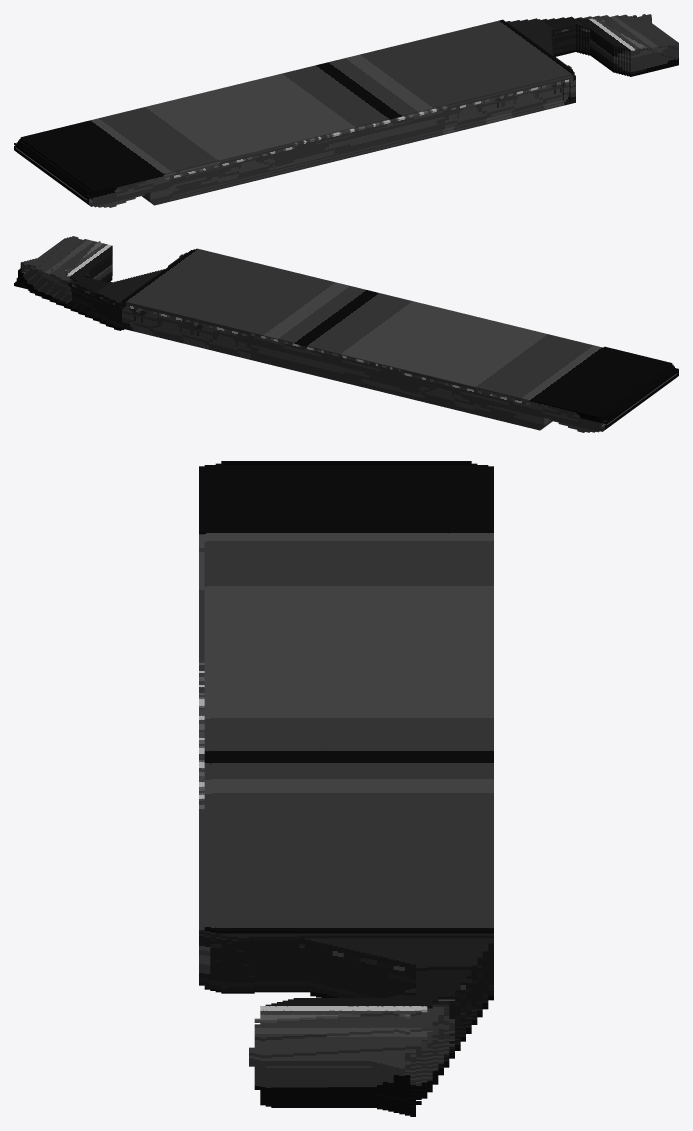
Rendered from floor2.glb.
3 renders of one model, top to bottom at view 1: azimuth 30°, elevation 25°; view 2: azimuth 150°, elevation 25°; view 3: azimuth 270°, elevation 25°, orthographic. The views are drawn at different scales.
Visible parts, largest first — view 1: floor 2; view 2: floor 2; view 3: floor 2.
Part boxes in pixels (x1,y1,x2,y2): floor 2: (14,14,678,207); floor 2: (14,236,678,432); floor 2: (199,461,493,1116).
Size of the model in its own units: 1.47 by 0.0702 by 0.3068.
Materials: 1 (1 with a texture image).
